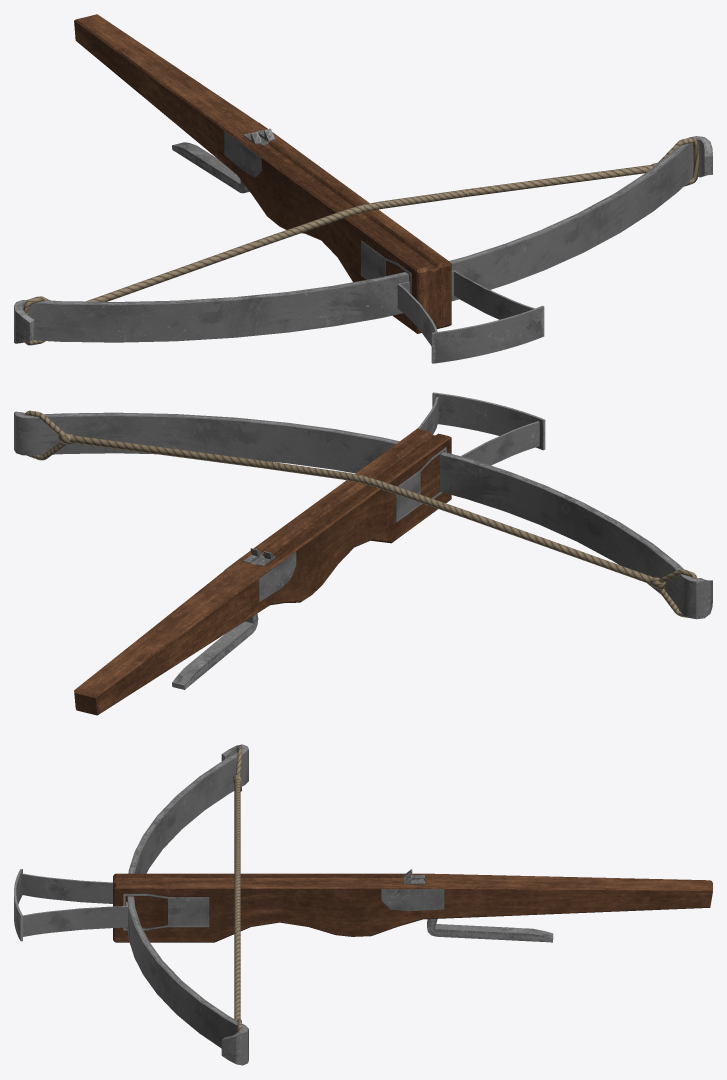
File: Crossbow.fbx
3 renders of one model, top to bottom at view 1: azimuth 30°, elevation 25°; view 2: azimuth 150°, elevation 25°; view 3: azimuth 270°, elevation 25°, orthographic. The views are drawn at different scales.
Parts seen in each view (by area): view 1: Crossbow, Rope; view 2: Crossbow, Rope; view 3: Crossbow, Rope.
Boxes of the visible parts, bbox=[...] form: Crossbow: bbox=[14, 14, 712, 363]; Rope: bbox=[23, 137, 699, 345]; Crossbow: bbox=[14, 392, 712, 715]; Rope: bbox=[25, 410, 697, 617]; Crossbow: bbox=[14, 744, 712, 1065]; Rope: bbox=[233, 747, 241, 1031].
Size of the model in its own units: 854 by 91.42 by 867.
2 materials, 2 textured.
